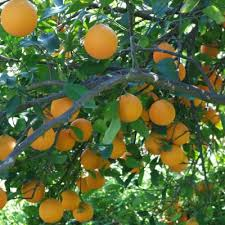orange: (79, 22, 118, 61), (1, 1, 40, 37), (111, 90, 143, 125), (48, 91, 80, 124), (158, 144, 190, 174), (26, 120, 55, 152), (148, 96, 176, 127), (36, 196, 63, 224), (69, 117, 93, 144)
